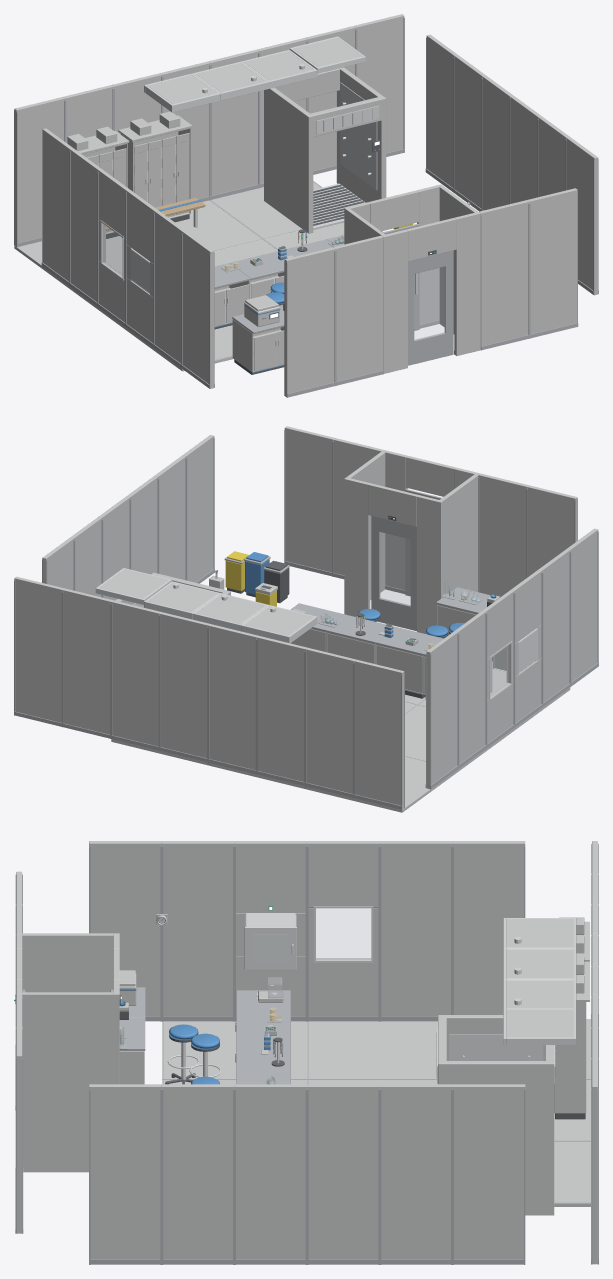
The model's file is cleanroom-gowning-suite.glb.
3 views of the same model, one above another, from view 1: azimuth 30°, elevation 25°; view 2: azimuth 150°, elevation 25°; view 3: azimuth 270°, elevation 25° (orthographic). The views are drawn at different scales.
Parts seen in each view (by area): view 1: 029-interlocked-door-pair/0, 036-air-shower-vestibule/0, 030-cleanroom-wall-panel/0, 032-cleanroom-wall-panel/0, 031-cleanroom-wall-panel/0, 033-cleanroom-wall-panel/0, 013-cleanroom-wall-panel/0, 009-cleanroom-wall-panel/0, 020-cleanroom-wall-panel/0, 016-cleanroom-wall-panel/0, 036-air-shower-vestibule/1, 023-cleanroom-wall-panel/0 (+54 smaller); view 2: 029-interlocked-door-pair/0, 009-cleanroom-wall-panel/0, 033-cleanroom-wall-panel/0, 012-cleanroom-wall-panel/0, 014-cleanroom-wall-panel/0, 010-cleanroom-wall-panel/0, 016-cleanroom-wall-panel/0, 011-cleanroom-wall-panel/0, 013-cleanroom-wall-panel/0, 015-cleanroom-wall-panel/0, 031-cleanroom-wall-panel/0, 017-cleanroom-wall-panel/0 (+54 smaller); view 3: 029-interlocked-door-pair/0, 025-cleanroom-wall-panel/0, 028-cleanroom-wall-panel/0, 023-cleanroom-wall-panel/0, 026-cleanroom-wall-panel/0, 024-cleanroom-wall-panel/0, 027-cleanroom-wall-panel/0, 018-cleanroom-wall-panel/0, 019-cleanroom-wall-panel/0, 017-cleanroom-wall-panel/0, 022-cleanroom-window-panel/0, 020-cleanroom-wall-panel/0 (+41 smaller).
Boxes of the visible parts, <box> form: 029-interlocked-door-pair/0: <box>344,184,480,373</box>; 036-air-shower-vestibule/0: <box>264,67,386,233</box>; 030-cleanroom-wall-panel/0: <box>284,247,335,397</box>; 032-cleanroom-wall-panel/0: <box>479,200,529,349</box>; 031-cleanroom-wall-panel/0: <box>333,235,383,381</box>; 033-cleanroom-wall-panel/0: <box>527,188,577,334</box>; 013-cleanroom-wall-panel/0: <box>209,49,258,195</box>; 009-cleanroom-wall-panel/0: <box>14,97,64,246</box>; 020-cleanroom-wall-panel/0: <box>182,231,214,388</box>; 016-cleanroom-wall-panel/0: <box>354,14,404,152</box>; 036-air-shower-vestibule/1: <box>313,82,379,229</box>; 023-cleanroom-wall-panel/0: <box>426,34,457,187</box>; 029-interlocked-door-pair/0: <box>344,450,480,633</box>; 009-cleanroom-wall-panel/0: <box>354,659,404,809</box>; 033-cleanroom-wall-panel/0: <box>284,426,334,572</box>; 012-cleanroom-wall-panel/0: <box>208,624,258,769</box>; 014-cleanroom-wall-panel/0: <box>111,600,161,746</box>; 010-cleanroom-wall-panel/0: <box>305,647,355,793</box>; 016-cleanroom-wall-panel/0: <box>14,576,64,722</box>; 011-cleanroom-wall-panel/0: <box>257,636,306,781</box>; 013-cleanroom-wall-panel/0: <box>160,612,209,758</box>; 015-cleanroom-wall-panel/0: <box>63,588,112,734</box>; 031-cleanroom-wall-panel/0: <box>478,473,528,597</box>; 017-cleanroom-wall-panel/0: <box>426,631,458,788</box>; 029-interlocked-door-pair/0: <box>16,933,119,1172</box>; 025-cleanroom-wall-panel/0: <box>307,1084,379,1259</box>; 028-cleanroom-wall-panel/0: <box>89,1084,161,1259</box>; 023-cleanroom-wall-panel/0: <box>452,1084,525,1259</box>; 026-cleanroom-wall-panel/0: <box>234,1084,307,1259</box>; 024-cleanroom-wall-panel/0: <box>380,1084,452,1259</box>; 027-cleanroom-wall-panel/0: <box>162,1084,234,1259</box>; 018-cleanroom-wall-panel/0: <box>380,841,452,1016</box>; 019-cleanroom-wall-panel/0: <box>162,841,234,1016</box>; 017-cleanroom-wall-panel/0: <box>452,841,525,1014</box>; 022-cleanroom-window-panel/0: <box>307,841,379,1016</box>; 020-cleanroom-wall-panel/0: <box>89,841,161,1016</box>.
Bounding box in the file's own units: 8.03 × 2.82 × 8.05.
